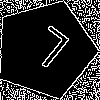L: (20, 24, 72, 78)
